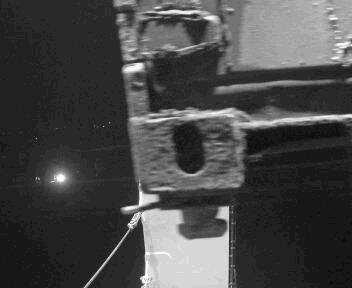twist_lock_1: (147, 130, 174, 152)
